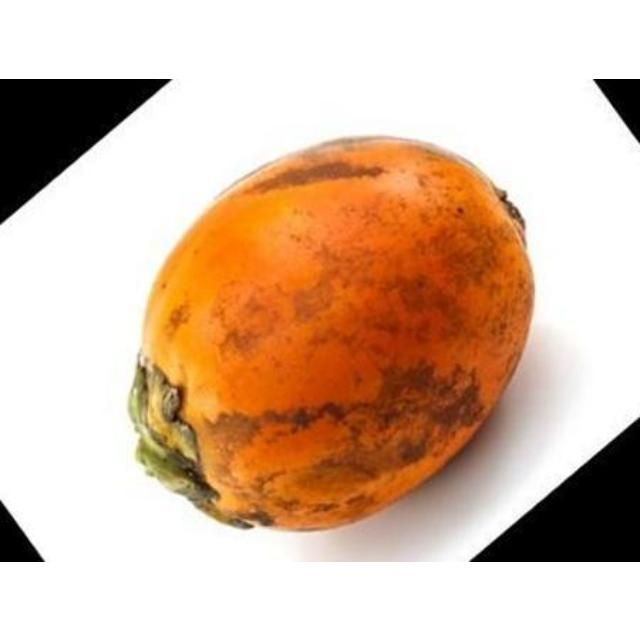good: (124, 138, 536, 533)
